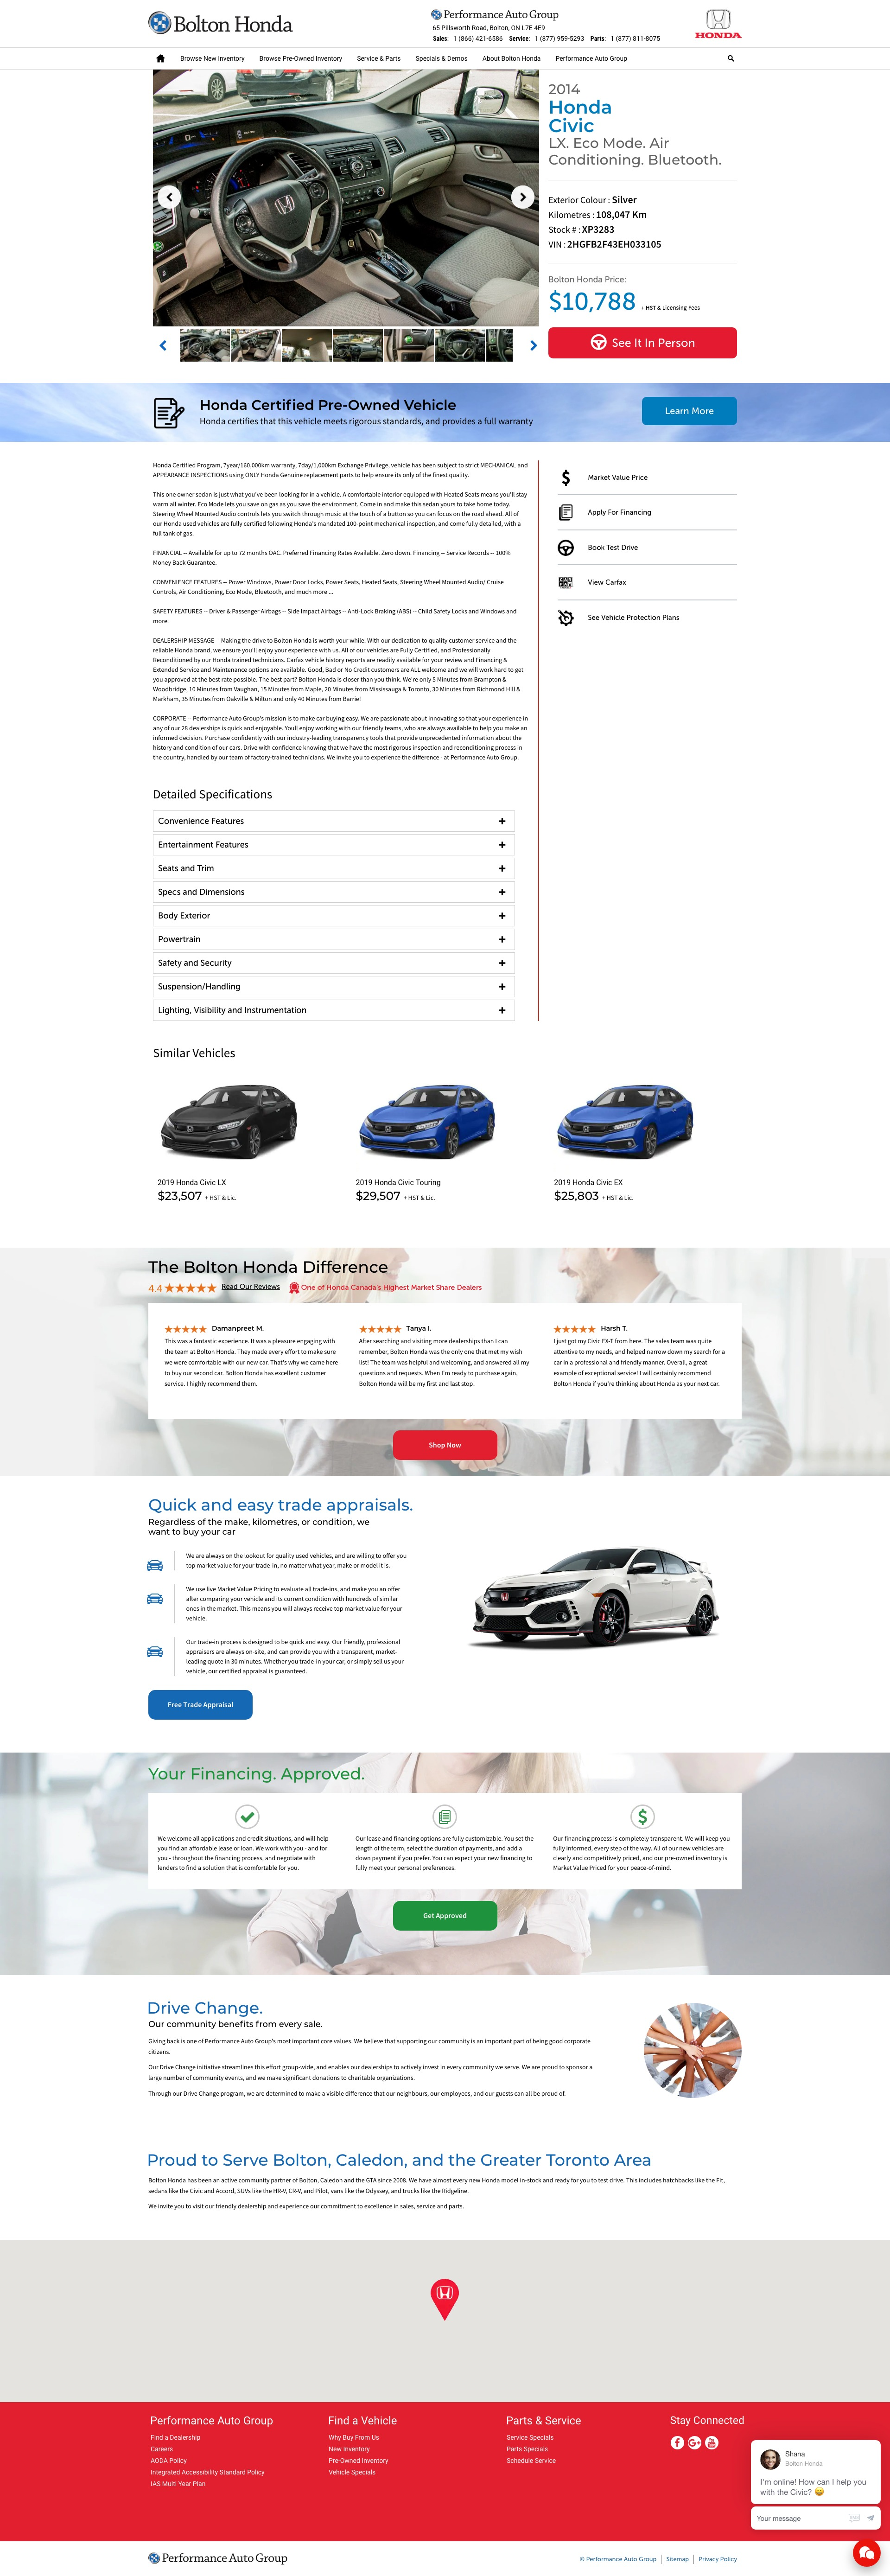car: (530, 340, 537, 352)
